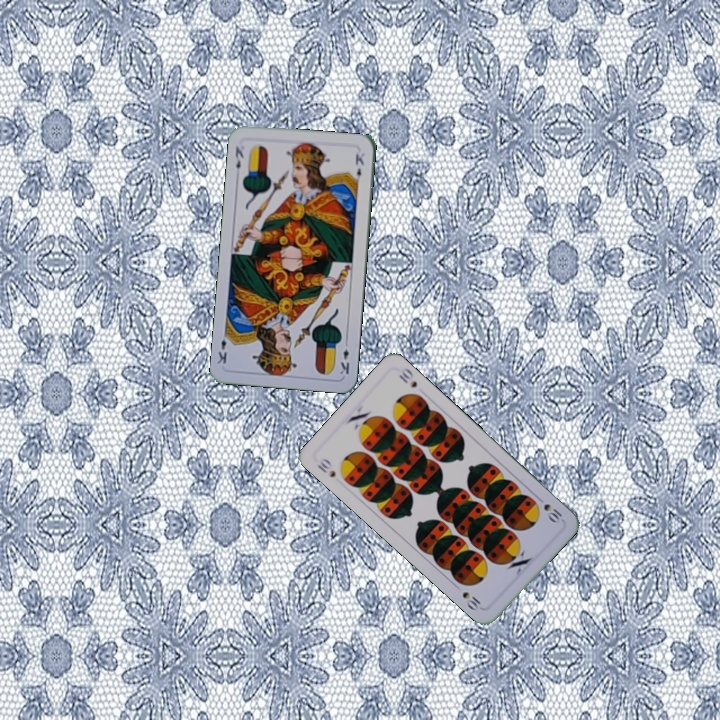EK: (336, 336, 352, 377), (231, 142, 246, 171)
S10: (539, 499, 565, 526), (313, 454, 339, 480)
